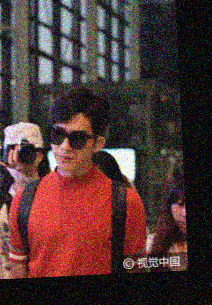without_mask: (50, 121, 95, 170), (172, 195, 186, 232)
